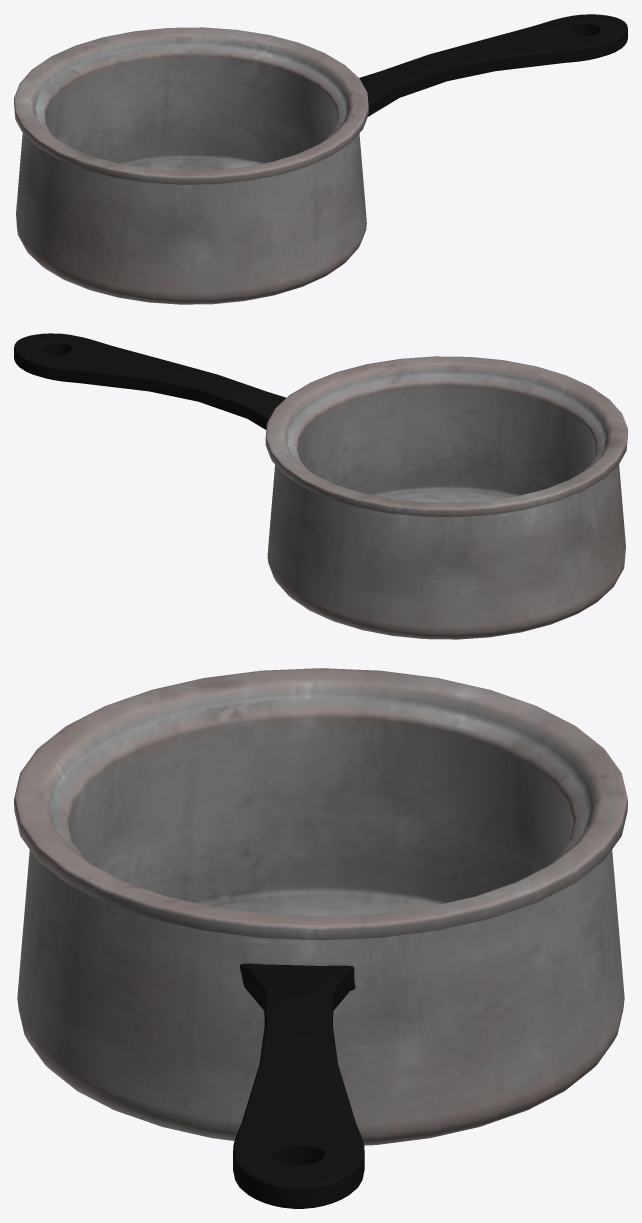
Rendered from SM_PAD_KitchenwareSet_Pot03_Base_c1_LOD1.fbx.
3 renders of one model, top to bottom at view 1: azimuth 30°, elevation 25°; view 2: azimuth 150°, elevation 25°; view 3: azimuth 270°, elevation 25°, orthographic. The views are drawn at different scales.
Parts seen in each view (by area): view 1: SM_PAD_KitchenwareSet_Pot03_Base_c1_LOD1_LOD0; view 2: SM_PAD_KitchenwareSet_Pot03_Base_c1_LOD1_LOD0; view 3: SM_PAD_KitchenwareSet_Pot03_Base_c1_LOD1_LOD0.
Boxes of the visible parts, box(x1,y1,x2,y2) form: SM_PAD_KitchenwareSet_Pot03_Base_c1_LOD1_LOD0: box(14, 14, 627, 304); SM_PAD_KitchenwareSet_Pot03_Base_c1_LOD1_LOD0: box(14, 333, 627, 639); SM_PAD_KitchenwareSet_Pot03_Base_c1_LOD1_LOD0: box(14, 668, 627, 1208).
Bounding box in the file's own units: 43.87 × 23.28 × 9.74.
